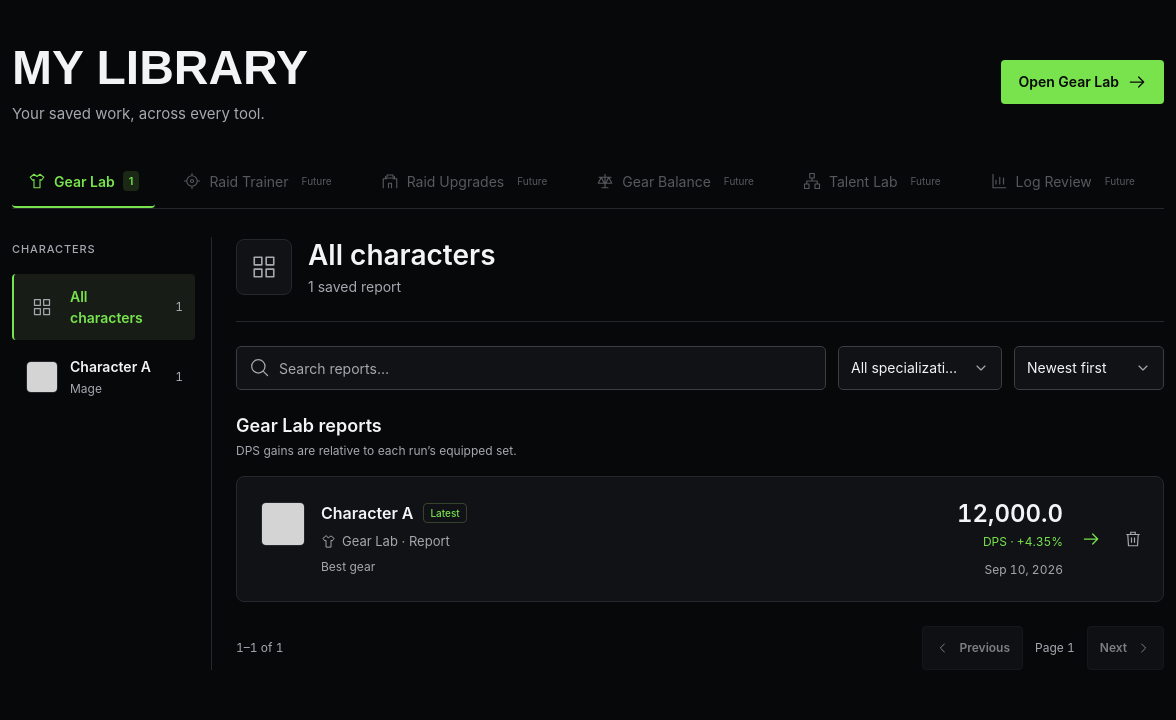
Scenario: keeps a readable character filter when its last report is removed in another tab
Click the button "Character A Mage 1": x=104, y=376 [12, 344, 195, 410]
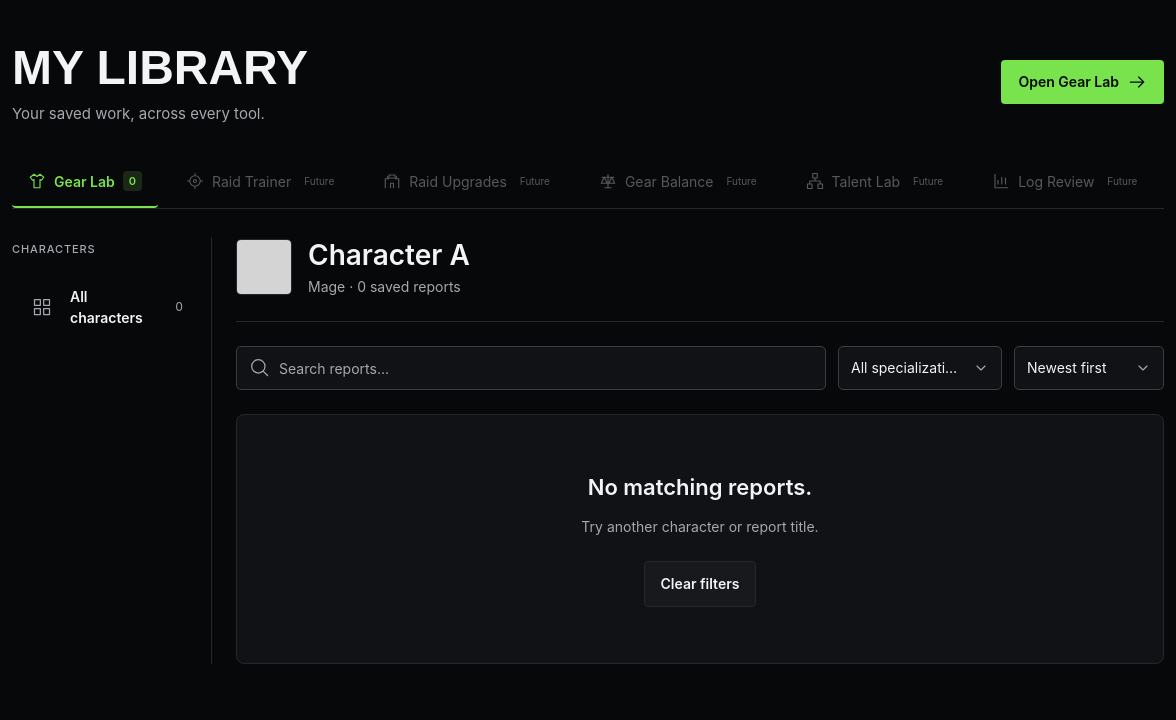
Expected: the heading "No matching reports." is shown, [588, 474, 812, 500]
